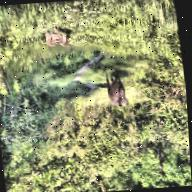boar: (91, 65, 134, 115)
